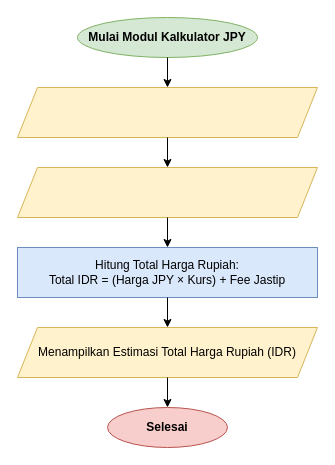
Some shapes in this 335 by 465 pixel diagram are drawn without their labels. Here are the shapes that lost their labels. From the top down, the centre of each, then its label:
At pixel 167 112: "Admin Memasukkan Kurs Yen (JPY/IDR) & Tarif Fee Jastip Terbaru".
At pixel 167 192: "Pelanggan Input Harga Barang dalam Yen (JPY)".
